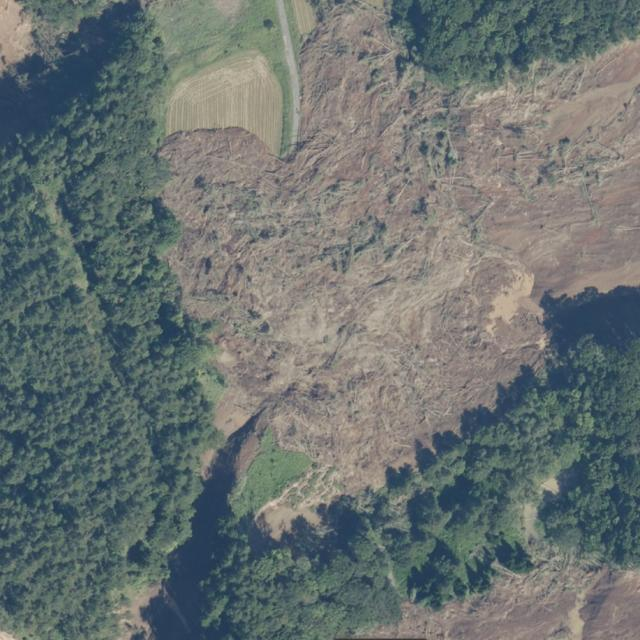landslide: (154, 1, 640, 637), (373, 564, 640, 640)
